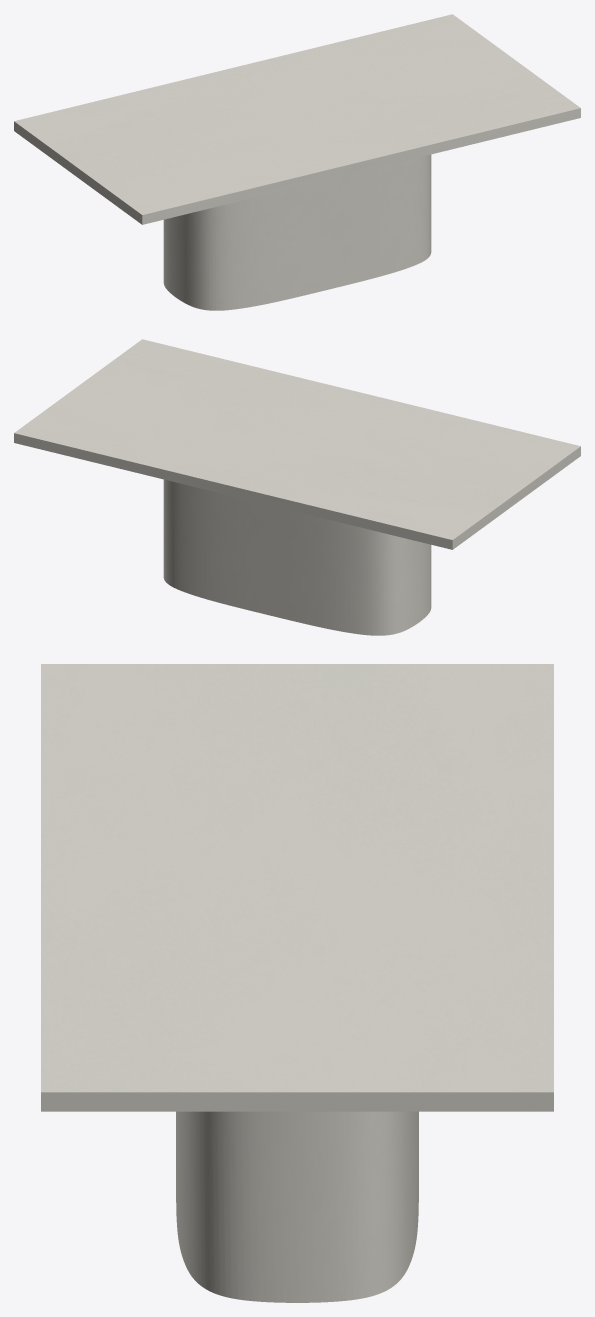
File: pale_recta_standard_fixed.glb
3 views of the same model, one above another, from view 1: azimuth 30°, elevation 25°; view 2: azimuth 150°, elevation 25°; view 3: azimuth 270°, elevation 25° (orthographic). The views are drawn at different scales.
Visible parts, largest first — view 1: standard_recta, fixed; view 2: standard_recta, fixed; view 3: standard_recta, fixed.
Boxes of the visible parts, box(x1,y1,x2,y2) form: standard_recta: box(14, 14, 580, 224); fixed: box(163, 154, 431, 310); standard_recta: box(14, 339, 580, 549); fixed: box(163, 479, 431, 635); standard_recta: box(41, 664, 553, 1111); fixed: box(176, 1111, 418, 1302).
Size of the model in its own units: 7.5 by 2.5 by 3.8.
Materials: 1 (1 with a texture image).
